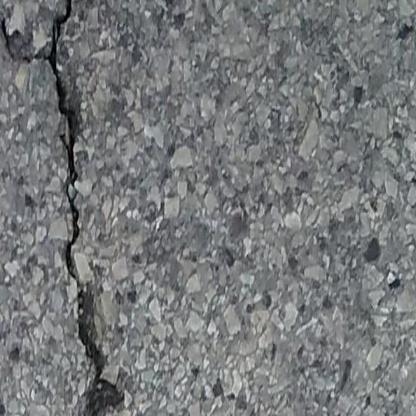Cracks: (41, 0, 126, 416), (0, 0, 19, 65)
